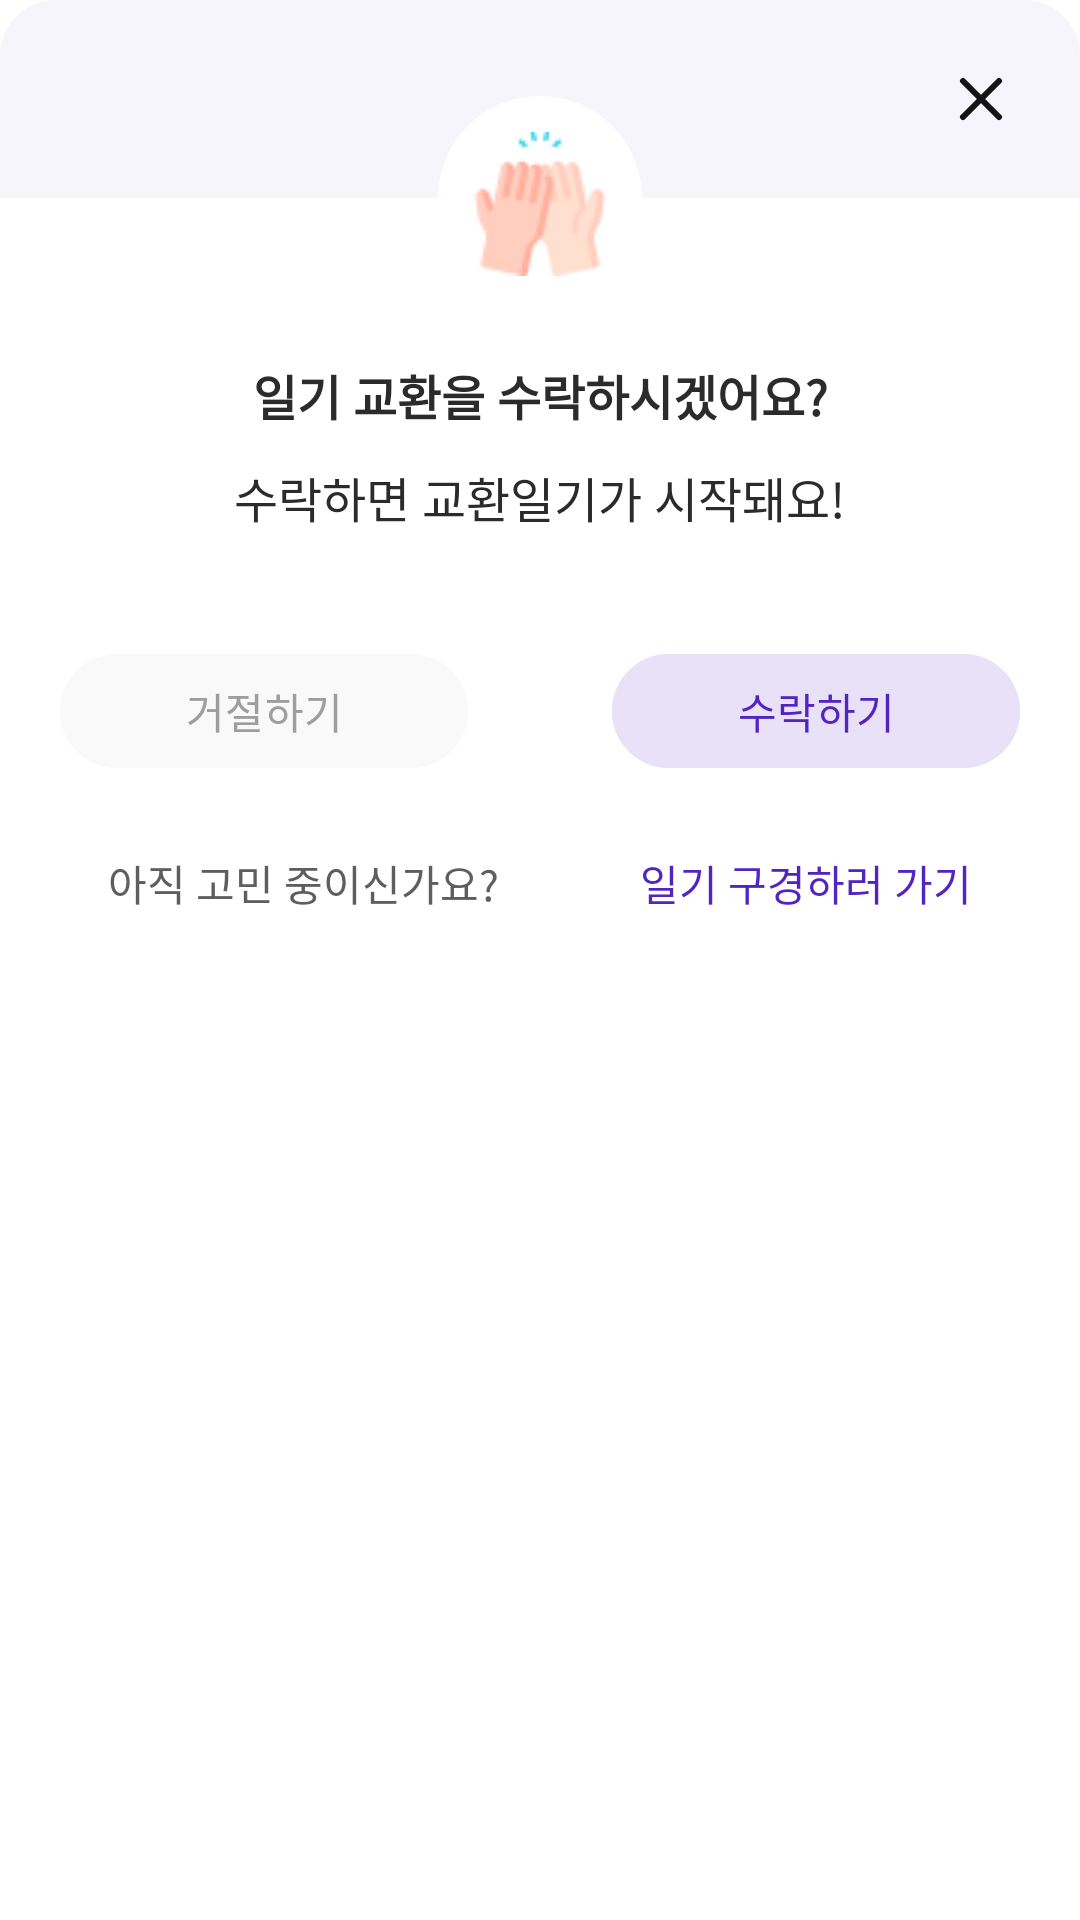

Locate icon controls on the screen. Image size 1080*1920, boxes as (x1, y1, x2, y2).
close md: (960, 78, 1002, 120)
